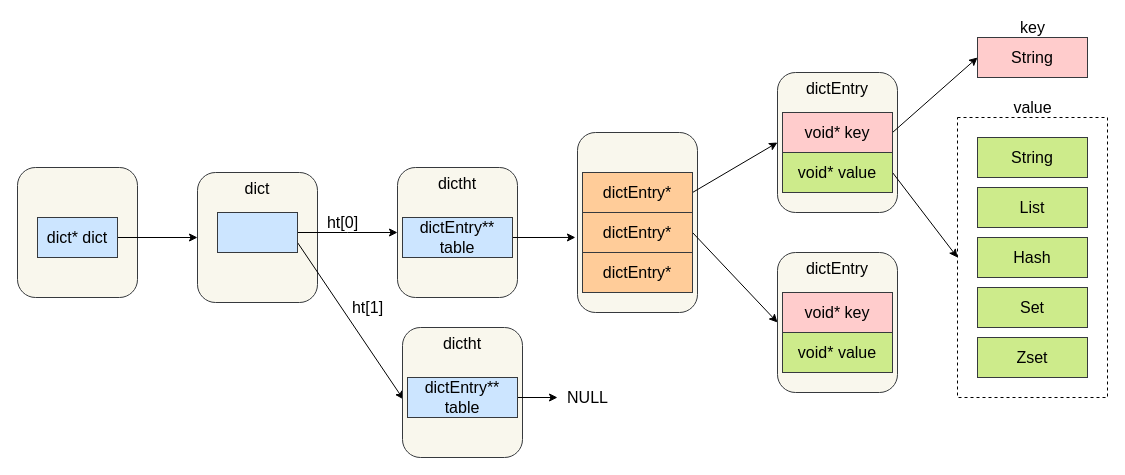
Image size: 1125x475. Some labels were removed from this diagram. The shapes that lost their labels are listed below. From the top down, each one's box as (x1, y1, x2, y2) in pixels, then its label:
(16, 166, 138, 298): redisDb
(216, 212, 298, 252): dictht ht[2]
(576, 132, 698, 312): dictEntry*[3]
